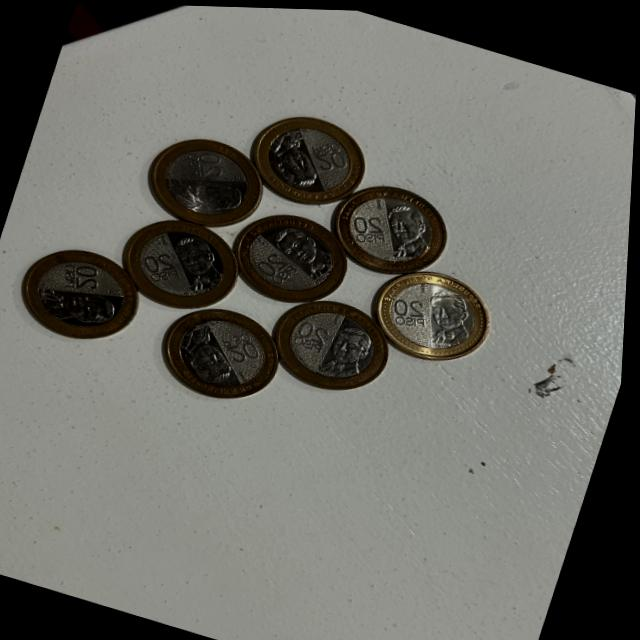20_New_Front: (162, 135, 238, 197), (46, 247, 116, 300), (250, 246, 315, 297), (300, 130, 361, 183), (335, 201, 398, 252), (133, 243, 194, 295), (289, 311, 346, 365), (212, 322, 272, 369), (396, 280, 436, 327)
